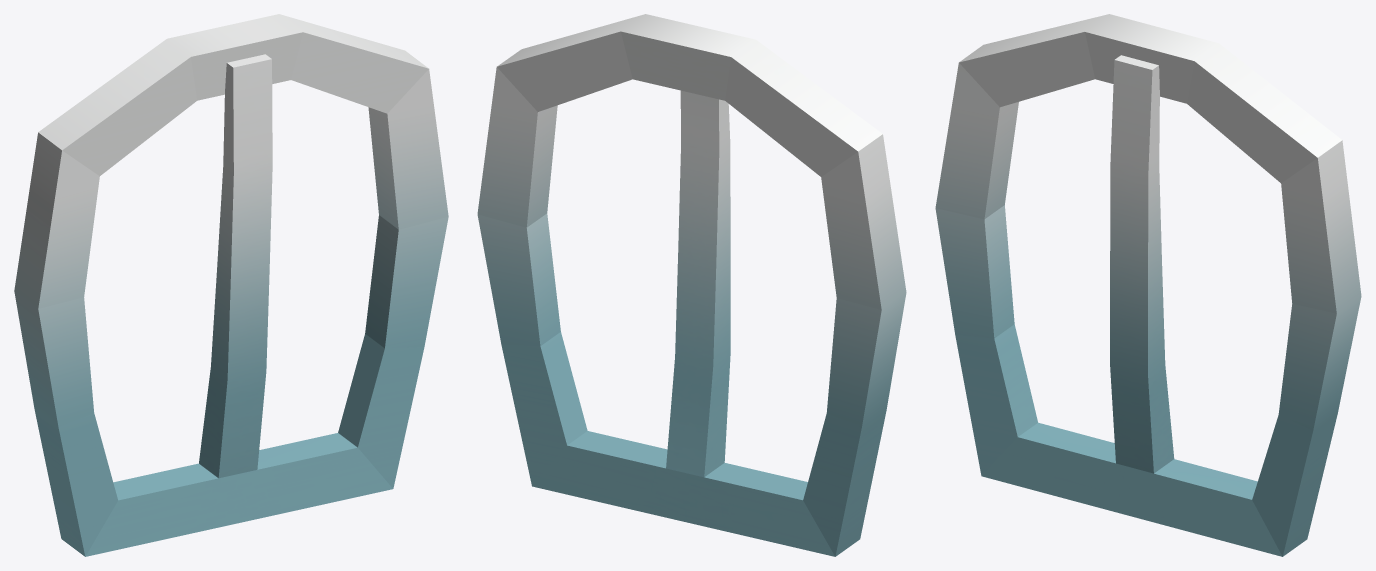
The model's file is Belt03.fbx.
The picture shows the model from 3 angles, left to right: view 1: azimuth 30°, elevation 25°; view 2: azimuth 150°, elevation 25°; view 3: azimuth 330°, elevation 25°; orthographic projection.
Parts seen in each view (by area): view 1: Belt03; view 2: Belt03; view 3: Belt03.
Boxes of the visible parts, x1=… form: Belt03: x1=14, y1=14, x2=448, y2=556; Belt03: x1=477, y1=14, x2=906, y2=556; Belt03: x1=935, y1=14, x2=1361, y2=556.
Bounding box in the file's own units: 20.39 × 22.93 × 2.95.
Materials: 1 (1 with a texture image).
